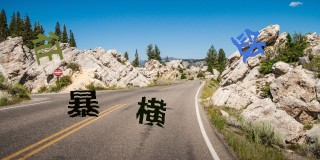征: (31, 31, 64, 66)
暴: (230, 28, 265, 64), (67, 90, 100, 118)
横: (136, 96, 167, 128)
